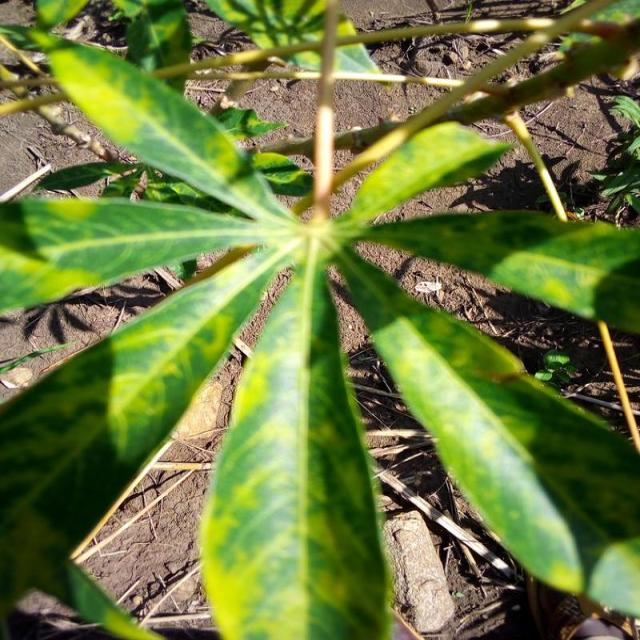cassava leaf: (0, 5, 638, 636), (196, 247, 394, 638)
